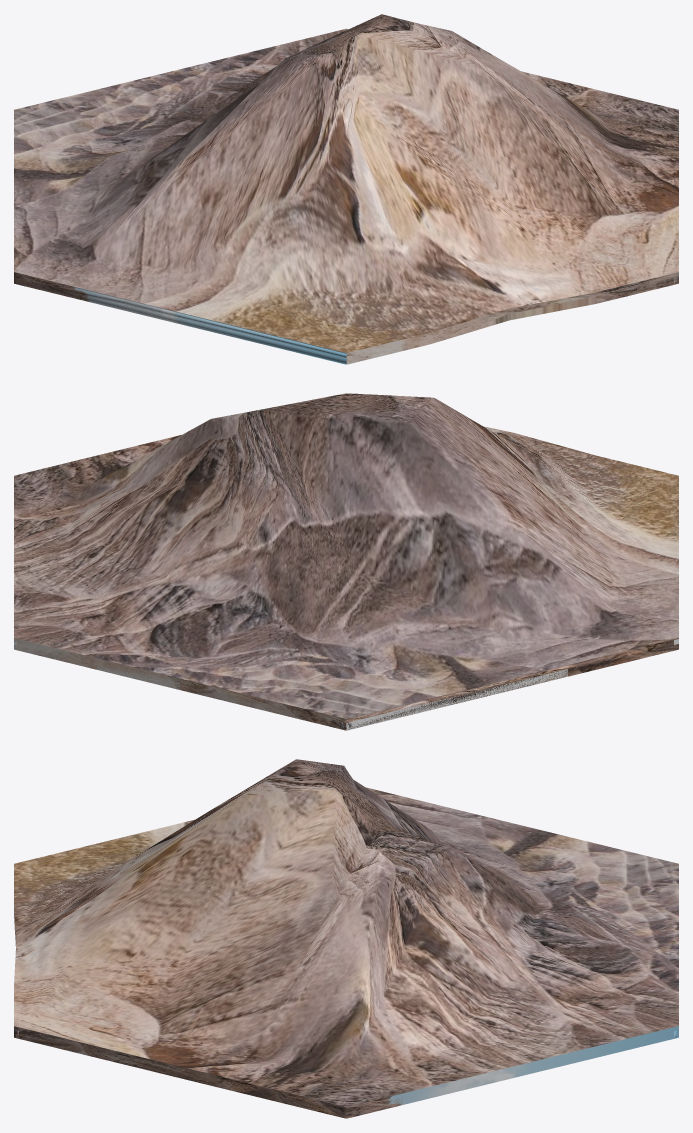
Rendered from mountain2.glb.
The picture shows the model from 3 angles, top to bottom: view 1: azimuth 30°, elevation 25°; view 2: azimuth 150°, elevation 25°; view 3: azimuth 270°, elevation 25°; orthographic projection.
Parts seen in each view (by area): view 1: optimized; view 2: optimized; view 3: optimized.
Boxes of the visible parts, <box> form: optimized: <box>14,14,678,364</box>; optimized: <box>14,393,678,730</box>; optimized: <box>14,759,678,1118</box>.
Size of the model in its own units: 4.5 by 1.1 by 3.9.
Materials: 2 (1 with a texture image).
